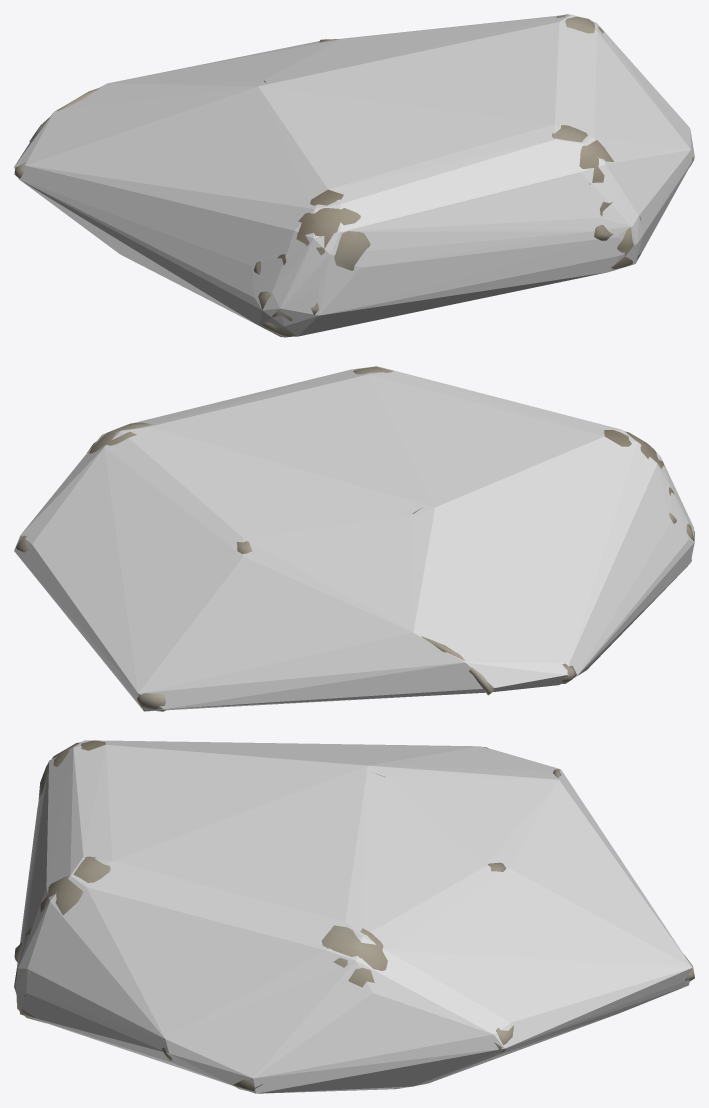
File: bone_pile.webp.glb
3 renders of one model, top to bottom at view 1: azimuth 30°, elevation 25°; view 2: azimuth 150°, elevation 25°; view 3: azimuth 270°, elevation 25°, orthographic. The views are drawn at different scales.
Parts seen in each view (by area): view 1: COL, LOD0_body; view 2: COL, LOD0_body; view 3: COL, LOD0_body.
Part boxes in pixels (x1,y1,x2,y2): COL: (14,14,694,337); LOD0_body: (14,14,693,337); COL: (14,366,694,711); LOD0_body: (16,366,694,711); COL: (15,740,692,1093); LOD0_body: (14,740,694,1090).
Bounding box in the file's own units: 0.9549 × 0.2264 × 0.8912.
1 material, 1 textured.
